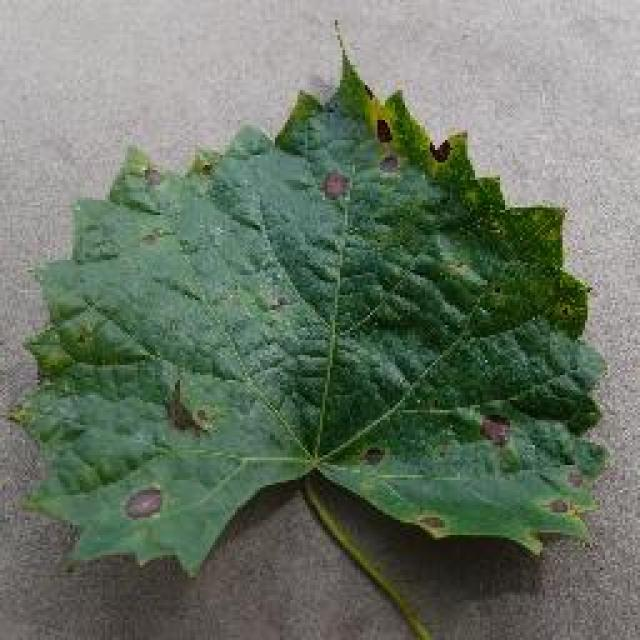Grape___Black_rot: (0, 13, 620, 585)
